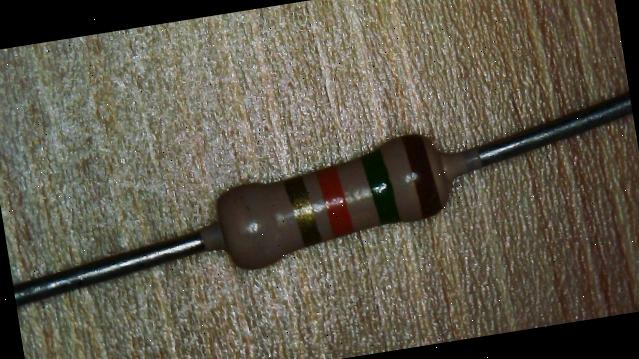brown: (402, 130, 440, 216)
gold: (285, 175, 319, 247)
green: (362, 147, 399, 225)
orange: (318, 164, 352, 236)
resistor: (168, 100, 497, 305)
